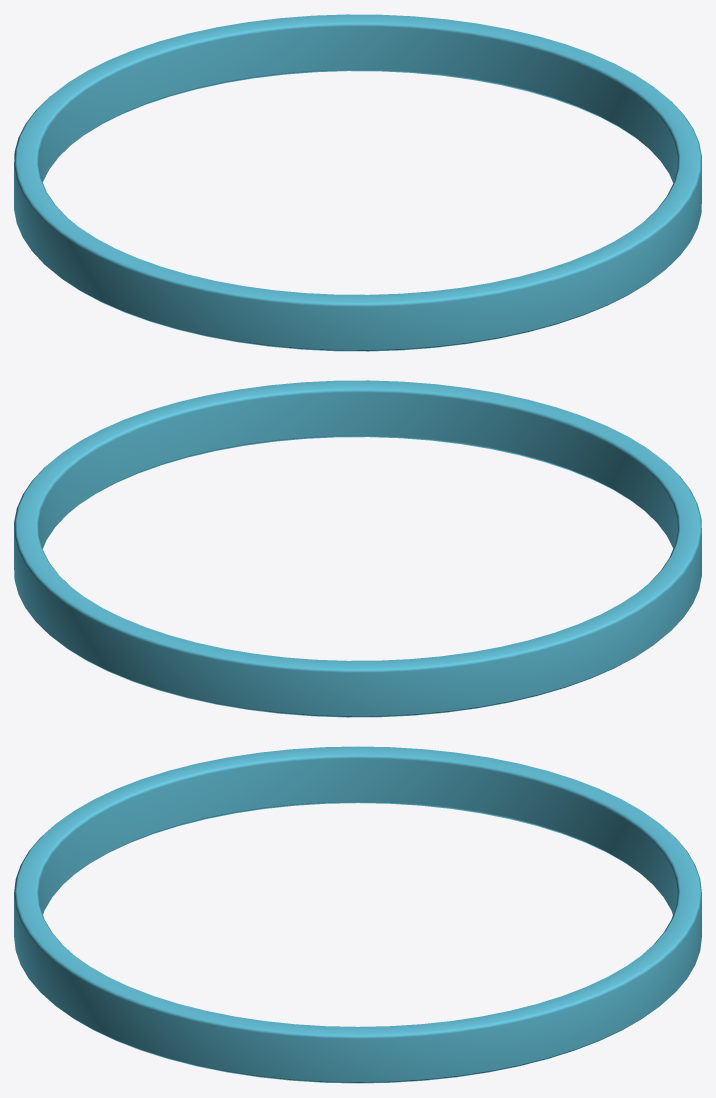
The picture shows the model from 3 angles, top to bottom: view 1: azimuth 30°, elevation 25°; view 2: azimuth 150°, elevation 25°; view 3: azimuth 270°, elevation 25°; orthographic projection.
Parts seen in each view (by area): view 1: seal_body; view 2: seal_body; view 3: seal_body.
Part boxes in pixels (bbox=[...]): seal_body: bbox=[14, 14, 701, 351]; seal_body: bbox=[14, 380, 701, 717]; seal_body: bbox=[14, 746, 701, 1083].
Size of the model in its own units: 0.07 by 0.0055 by 0.07.
